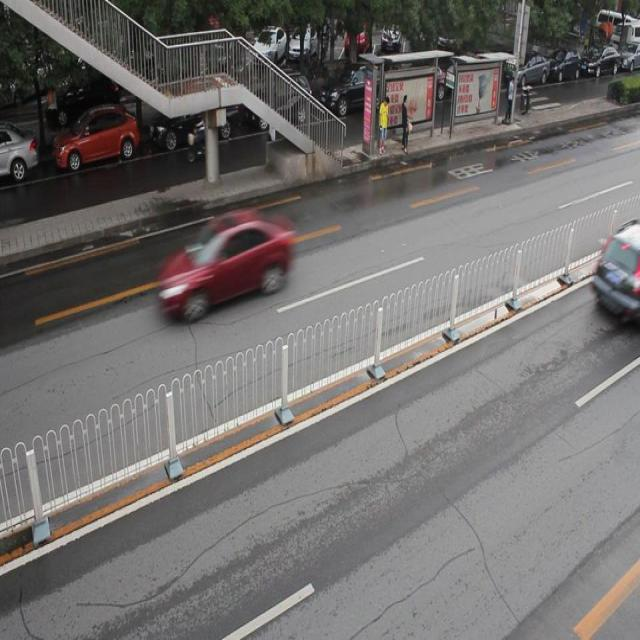car: (155, 208, 294, 324), (148, 95, 241, 149), (590, 223, 640, 323), (54, 111, 139, 166), (247, 75, 314, 134), (317, 66, 390, 120), (1, 124, 38, 181)
